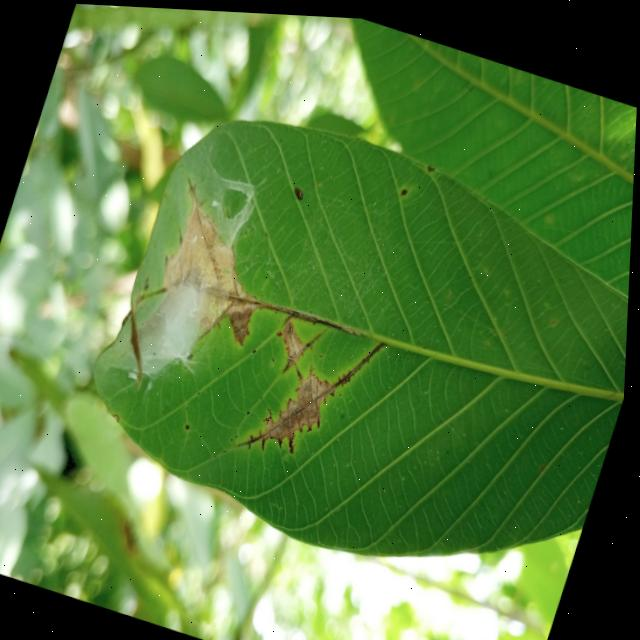Colletotrichum: (291, 182, 307, 198), (400, 184, 408, 191)
Corynespora: (237, 302, 393, 483), (335, 328, 388, 399), (283, 316, 328, 381), (238, 420, 273, 454)
Leaf-Blight: (147, 192, 285, 354), (264, 362, 336, 448), (277, 316, 311, 361)
